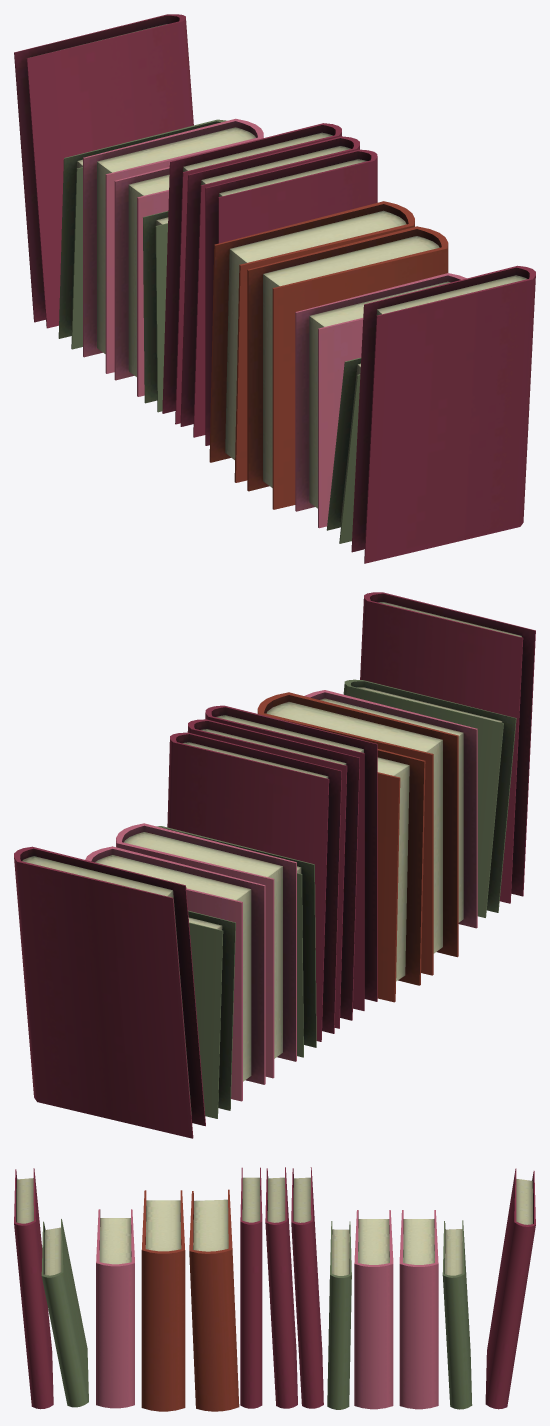
Rendered from book_row_wide_2.glb.
The picture shows the model from 3 angles, top to bottom: view 1: azimuth 30°, elevation 25°; view 2: azimuth 150°, elevation 25°; view 3: azimuth 270°, elevation 25°; orthographic projection. The views are drawn at different scales.
Parts seen in each view (by area): view 1: Book_Row_Wide_2.smd; view 2: Book_Row_Wide_2.smd; view 3: Book_Row_Wide_2.smd.
Part boxes in pixels (x1,y1,x2,y2): Book_Row_Wide_2.smd: (14,14,535,563); Book_Row_Wide_2.smd: (14,592,535,1138); Book_Row_Wide_2.smd: (14,1167,535,1411).
Size of the model in its own units: 0.2794 by 0.3825 by 0.9719.
4 materials, 4 textured.
